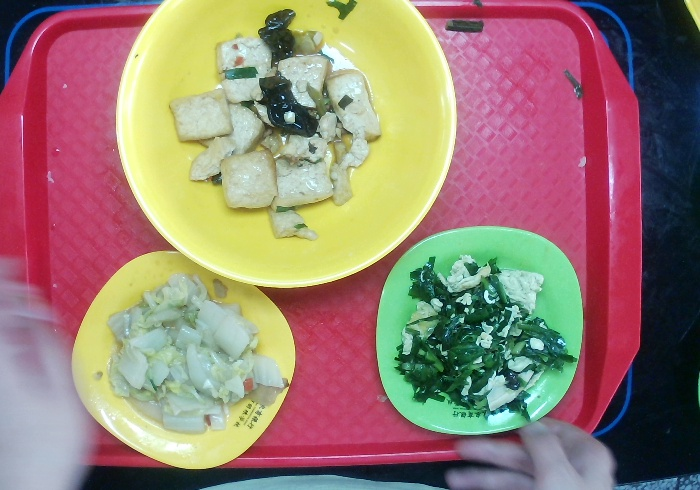YKMZ-Huang_Se_Fang_Die: (67, 247, 298, 474)
YKMZ-Huang_Se_Tang_Wan: (109, 1, 463, 294)
YKMZ-Lv_Se_Fang_Die: (372, 222, 589, 440)
